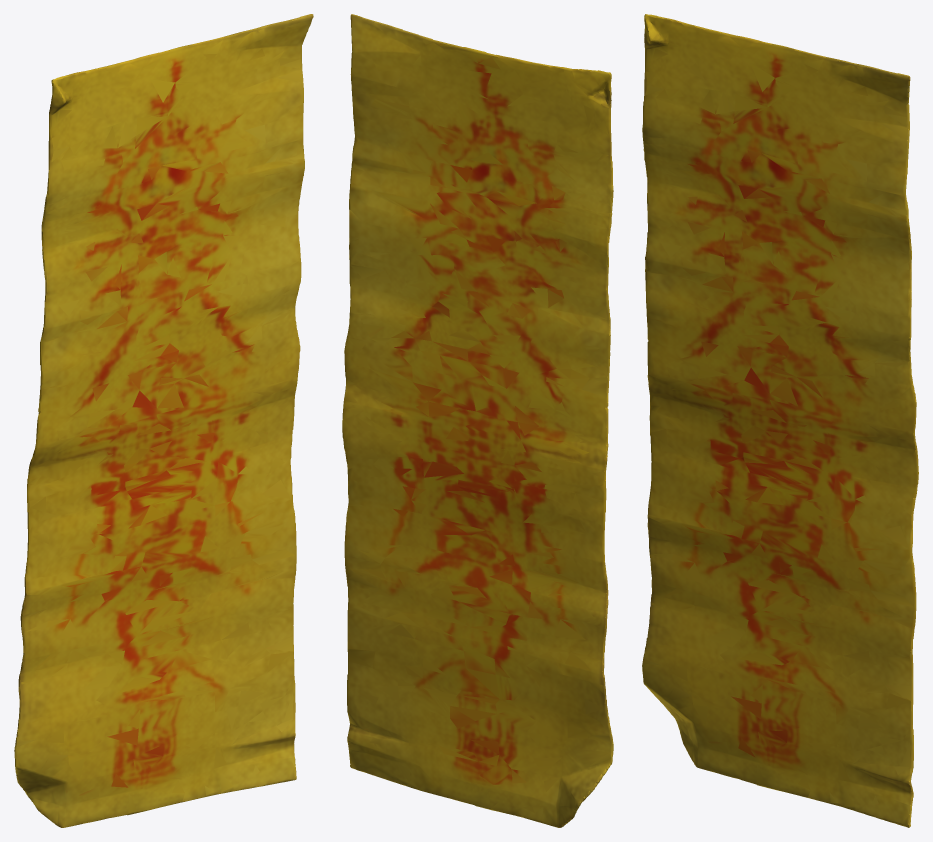
The picture shows the model from 3 angles, left to right: view 1: azimuth 30°, elevation 25°; view 2: azimuth 150°, elevation 25°; view 3: azimuth 330°, elevation 25°; orthographic projection. The views are drawn at different scales.
Parts seen in each view (by area): view 1: talisman; view 2: talisman; view 3: talisman.
Part boxes in pixels (x1=…): talisman: x1=14, y1=14, x2=313, y2=827; talisman: x1=342, y1=14, x2=613, y2=827; talisman: x1=642, y1=14, x2=918, y2=827.
Bounding box in the file's own units: 7.71 × 20 × 1.56.
1 material, 1 textured.
